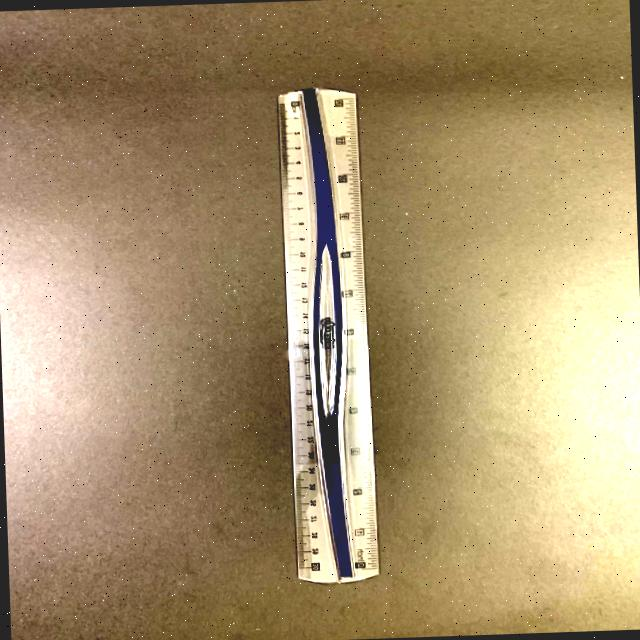Scale: (203, 40, 444, 608)
